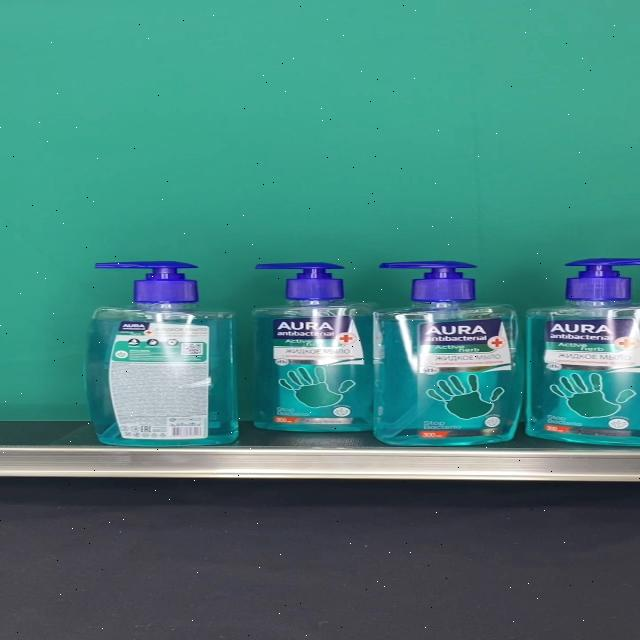Bottle: (85, 261, 239, 447), (372, 261, 525, 446), (250, 264, 382, 432)
Cap: (95, 261, 199, 303), (377, 262, 478, 302), (254, 264, 345, 300)
